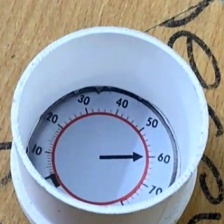gauge: (27, 85, 178, 207)
